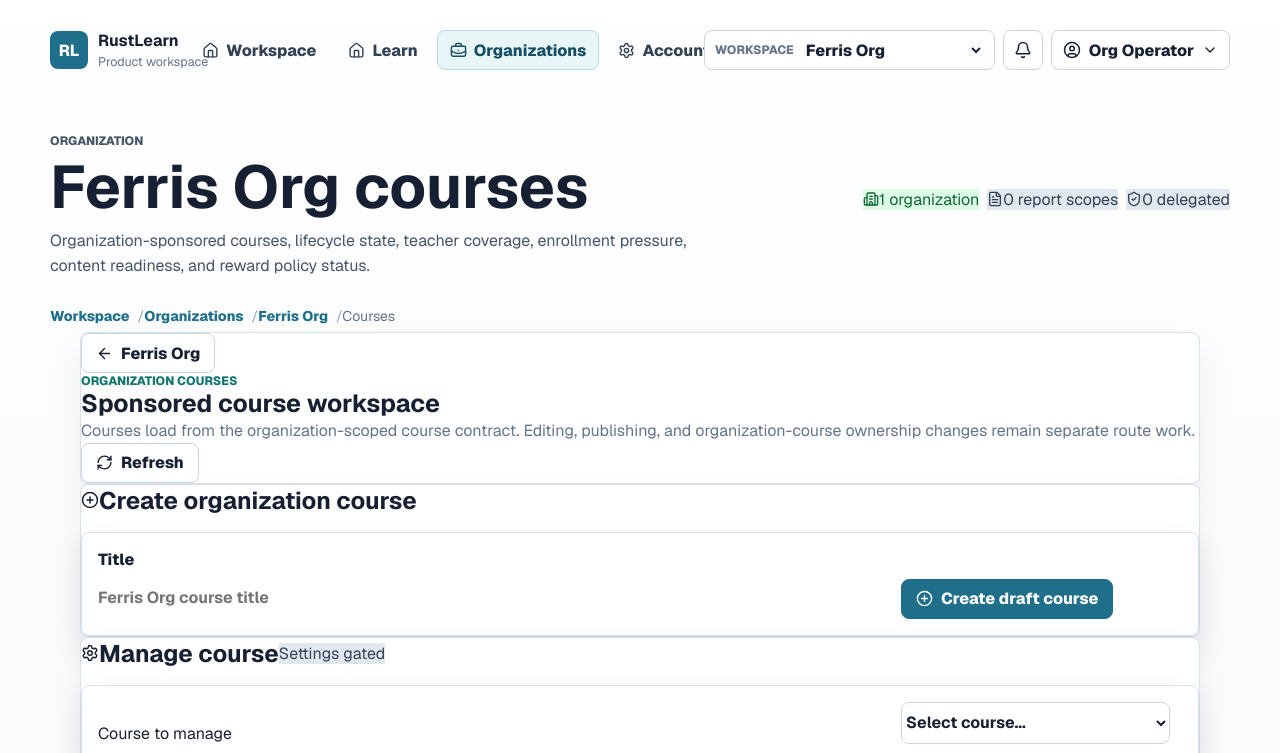
Test case: OrganizationCoursesRoute › updates selected organization course settings and lifecycle
This screenshot has width=1280, height=753.
Select "Rust Ownership Lab" in the dropdown labelled "Course to manage" at (1036, 723), box [901,702,1170,744]
(page scrolled)
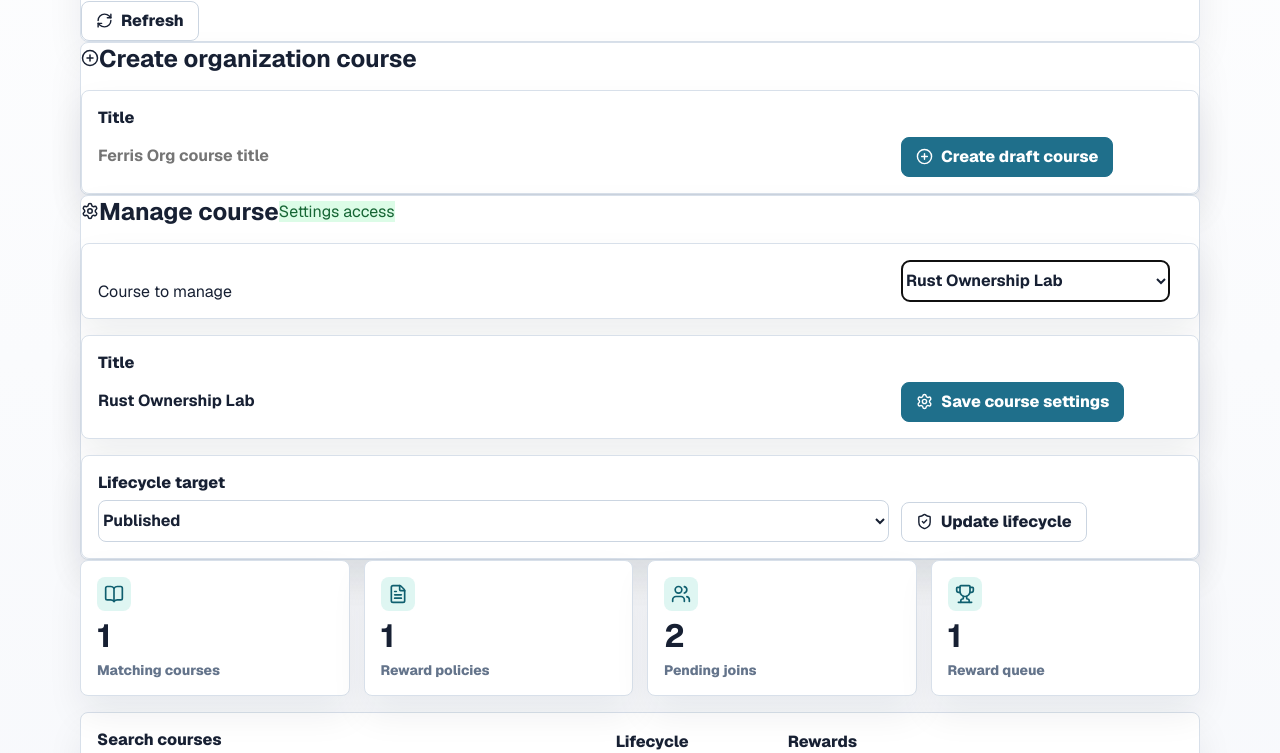
Replace the text in the field labelled "Title" below "Course to manage" with "Renamed Org Lab" at (494, 401), box [98,380,889,422]
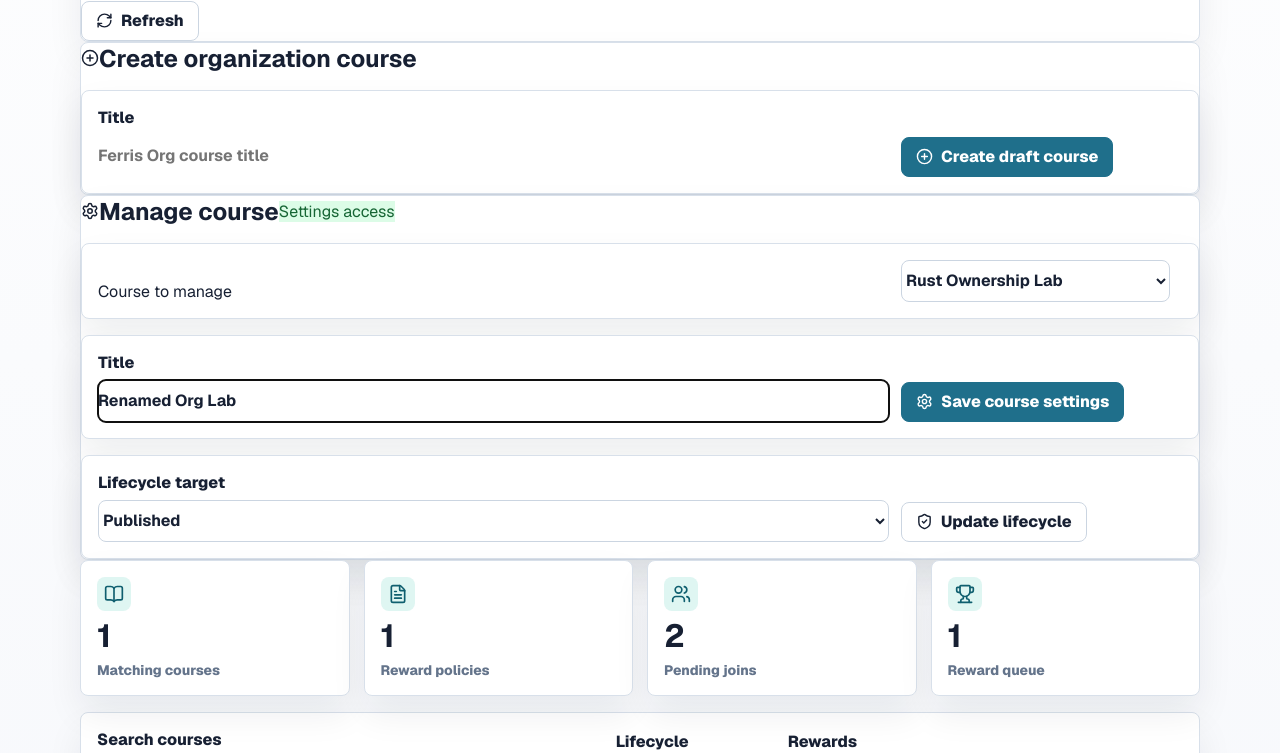
Click the button "Save course settings".
click(1013, 402)  # box [901,382,1124,422]
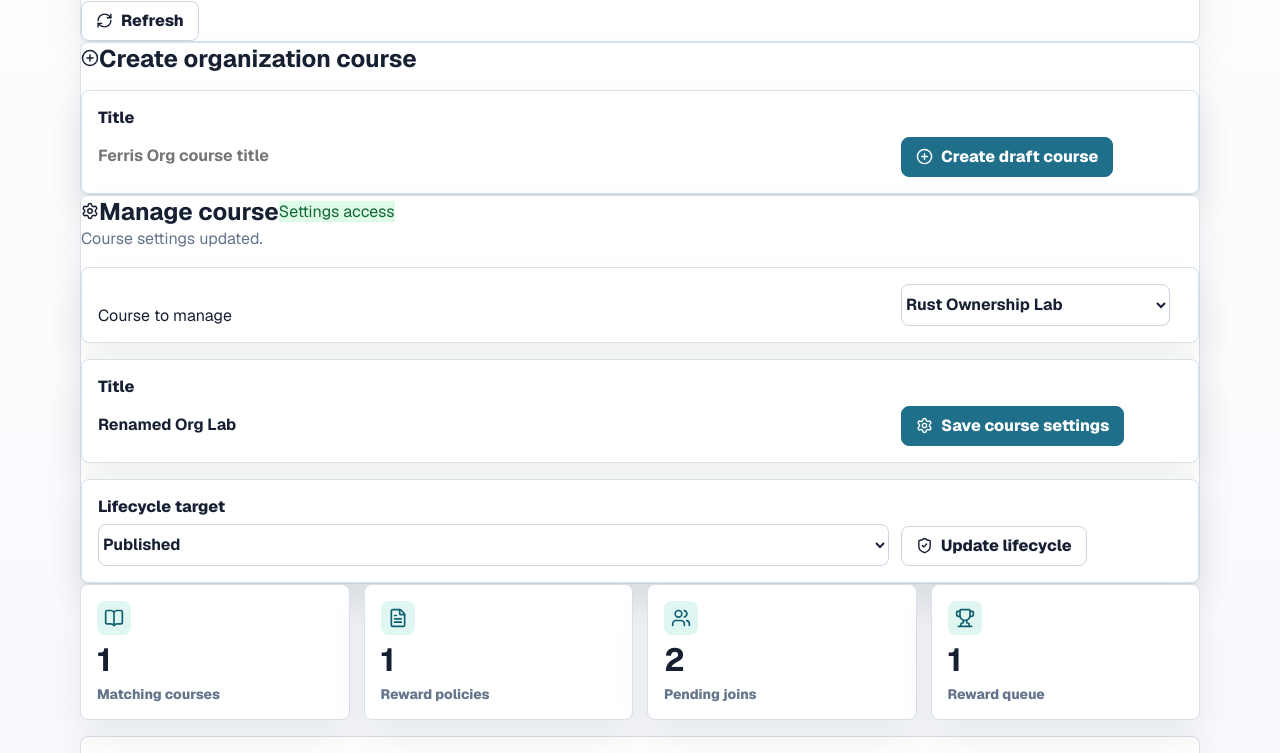
Expected: the text "Course settings updated." is shown, [81,228,263,249]
Select "Archived" in the dropdown labelled "Lifecycle target" at (494, 545), box [98,524,889,566]
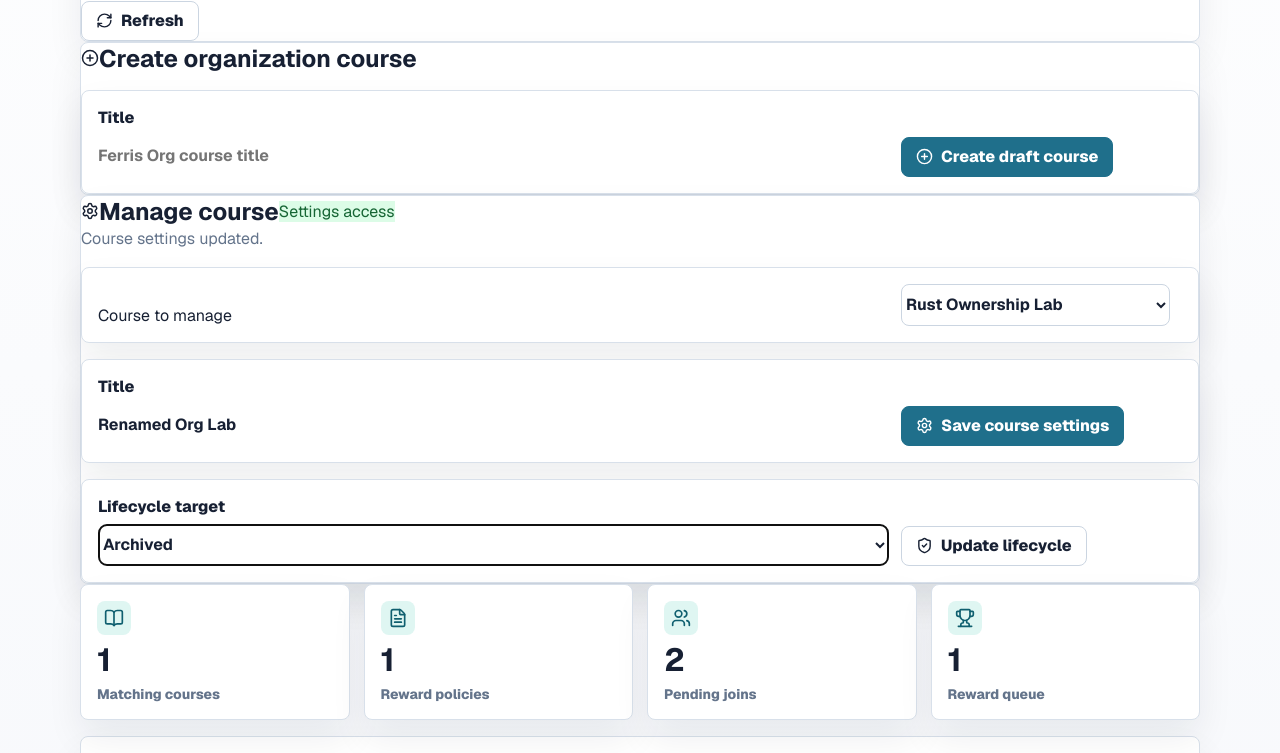
Click the button "Update lifecycle".
click(994, 546)  # box [901,526,1087,566]
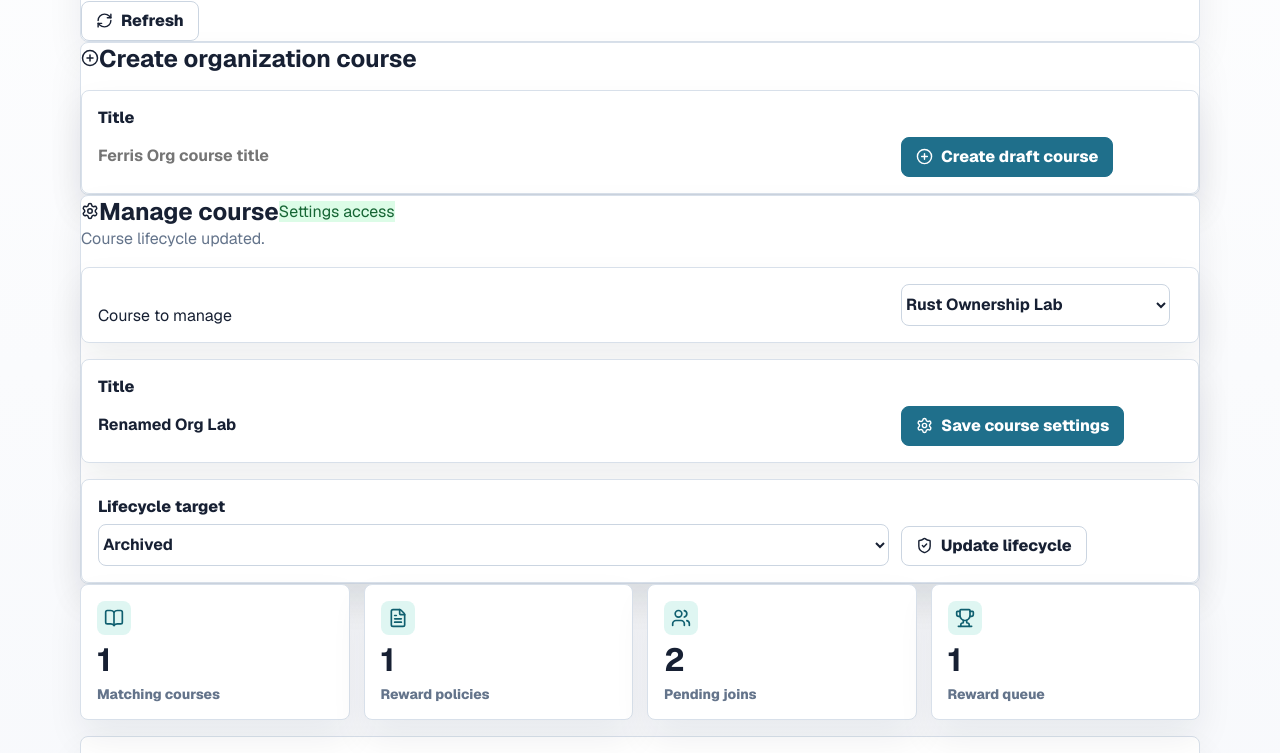
Expected: the text "Course lifecycle updated." is shown, [81,228,264,249]
